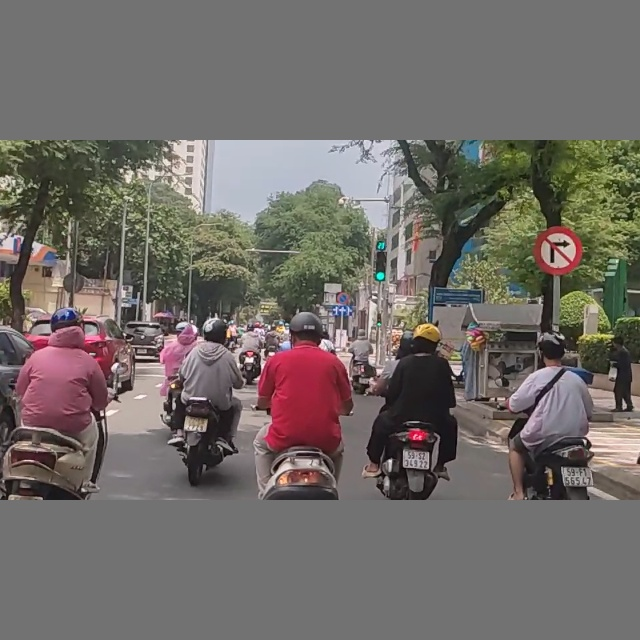P.123b: (536, 225, 583, 273)
P.131a: (337, 290, 353, 304)
